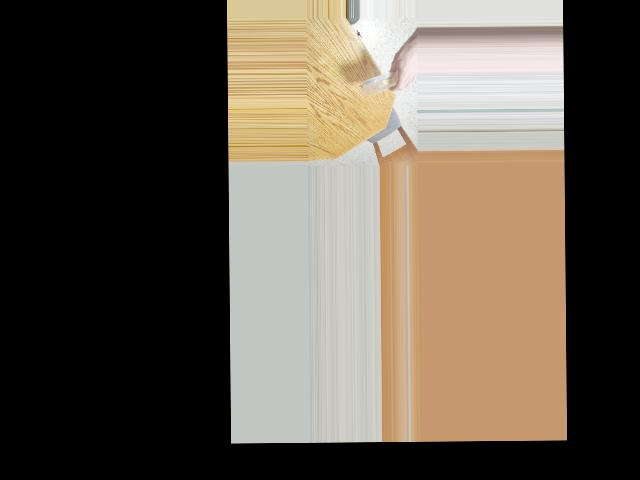cheese: (366, 70, 398, 98)
